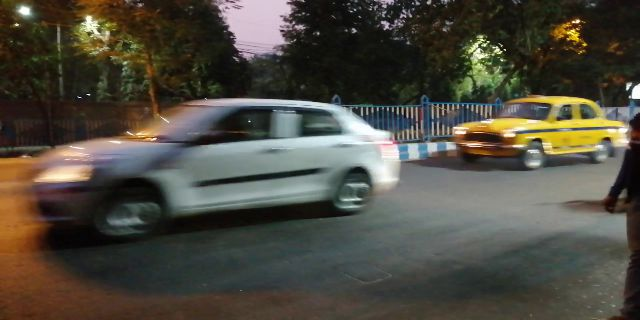Car: (27, 98, 402, 234), (450, 96, 623, 169)
